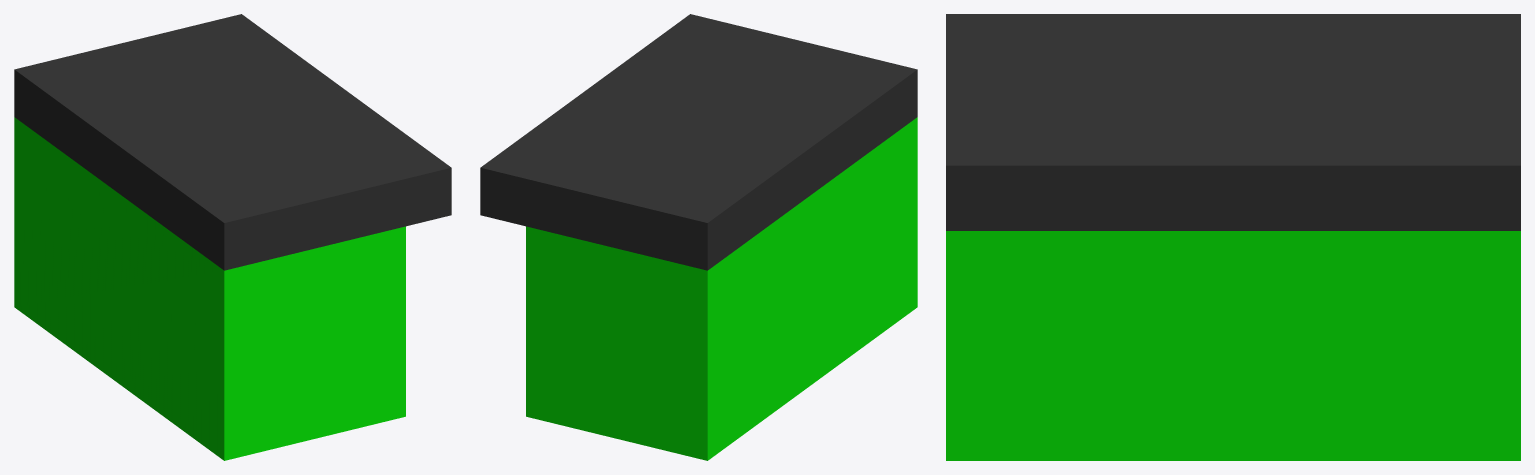
Rendered from TrashBinLarge.fbx.
3 views of the same model, side by side, from view 1: azimuth 30°, elevation 25°; view 2: azimuth 150°, elevation 25°; view 3: azimuth 270°, elevation 25° (orthographic). The views are drawn at different scales.
Visible parts, largest first — view 1: TrashBinBase, TrashBinCover; view 2: TrashBinBase, TrashBinCover; view 3: TrashBinBase, TrashBinCover.
Part boxes in pixels (x1=…): TrashBinBase: x1=14, y1=117, x2=405, y2=460; TrashBinCover: x1=14, y1=14, x2=451, y2=270; TrashBinBase: x1=526, y1=117, x2=917, y2=460; TrashBinCover: x1=480, y1=14, x2=917, y2=270; TrashBinBase: x1=946, y1=231, x2=1520, y2=460; TrashBinCover: x1=946, y1=14, x2=1520, y2=230.
Bounding box in the file's own units: 125 × 125 × 200.
